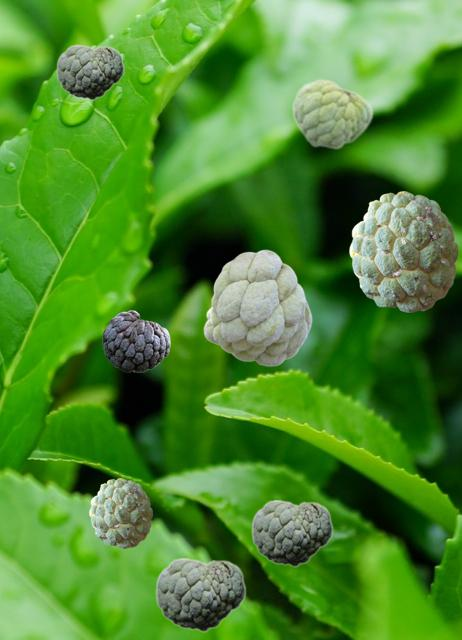atis: (349, 191, 457, 311), (203, 249, 311, 365), (155, 557, 245, 631), (291, 78, 372, 149), (251, 499, 332, 566), (89, 478, 151, 547), (102, 310, 169, 371), (56, 44, 123, 99)
